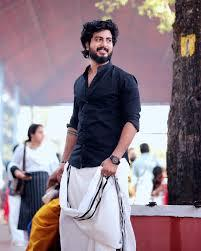Human: (60, 19, 139, 251)
